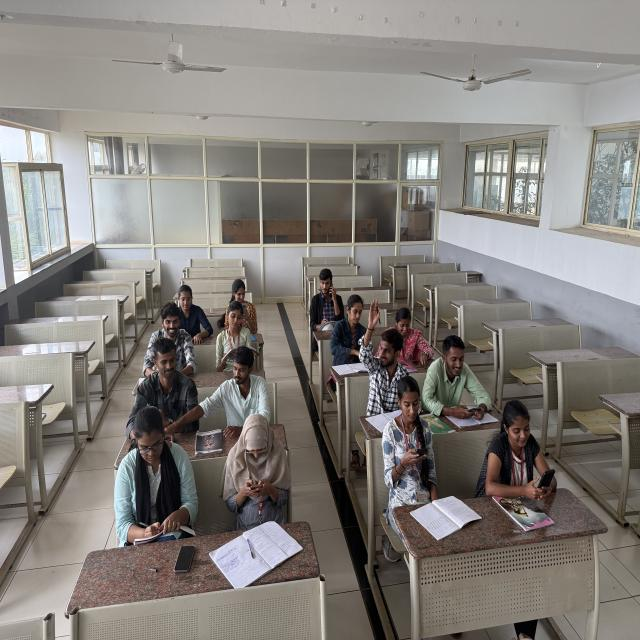Hand Rising: (358, 299, 408, 415)
Reading: (328, 294, 372, 377), (214, 299, 260, 365)
Using Phone: (378, 372, 448, 514), (220, 405, 291, 531), (482, 397, 561, 510), (423, 333, 490, 426), (301, 258, 346, 336), (390, 307, 433, 369), (222, 276, 257, 327)
Writing: (111, 405, 200, 551)
